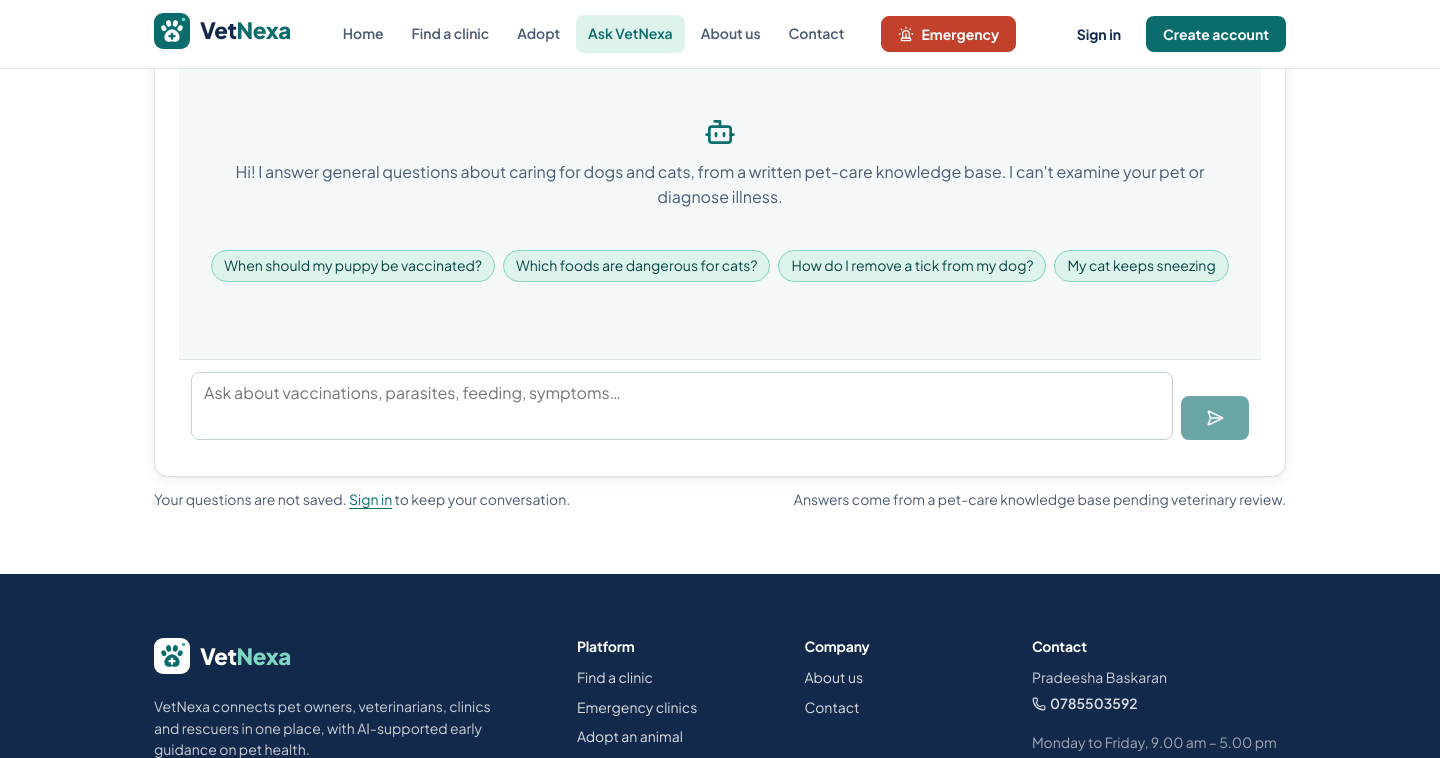
Test case: pet-care assistant › lets a visitor ask a question and shows the article answer
(page scrolled)
Type "How often should I deworm my dog?" into the text box named "Your question". click: (682, 406)
box: [191,372,1173,440]
Then press Enter
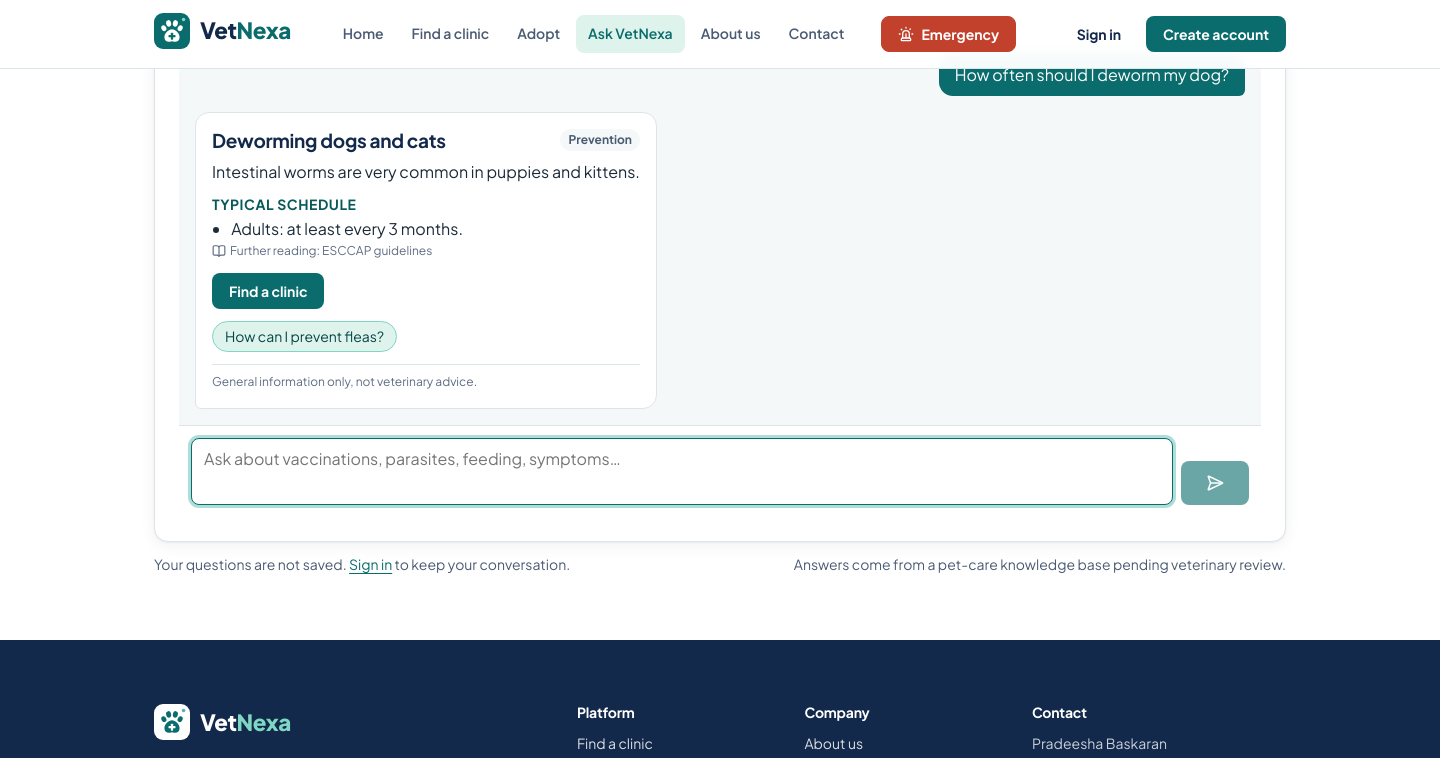
Result: the heading "Deworming dogs and cats" is shown at [212,129,446,152]
Result: the text "How often should I deworm my dog?" is shown at [939,55,1245,96]
Result: the list item "Adults: at least every 3 months." is shown at [231,218,463,239]
